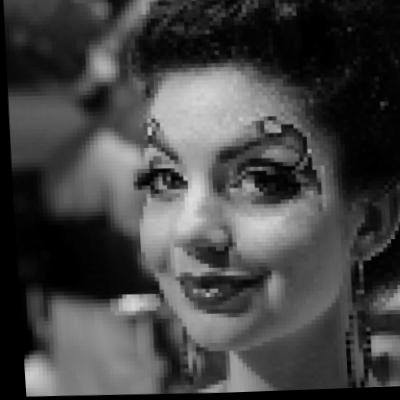happy: (125, 72, 344, 351)
